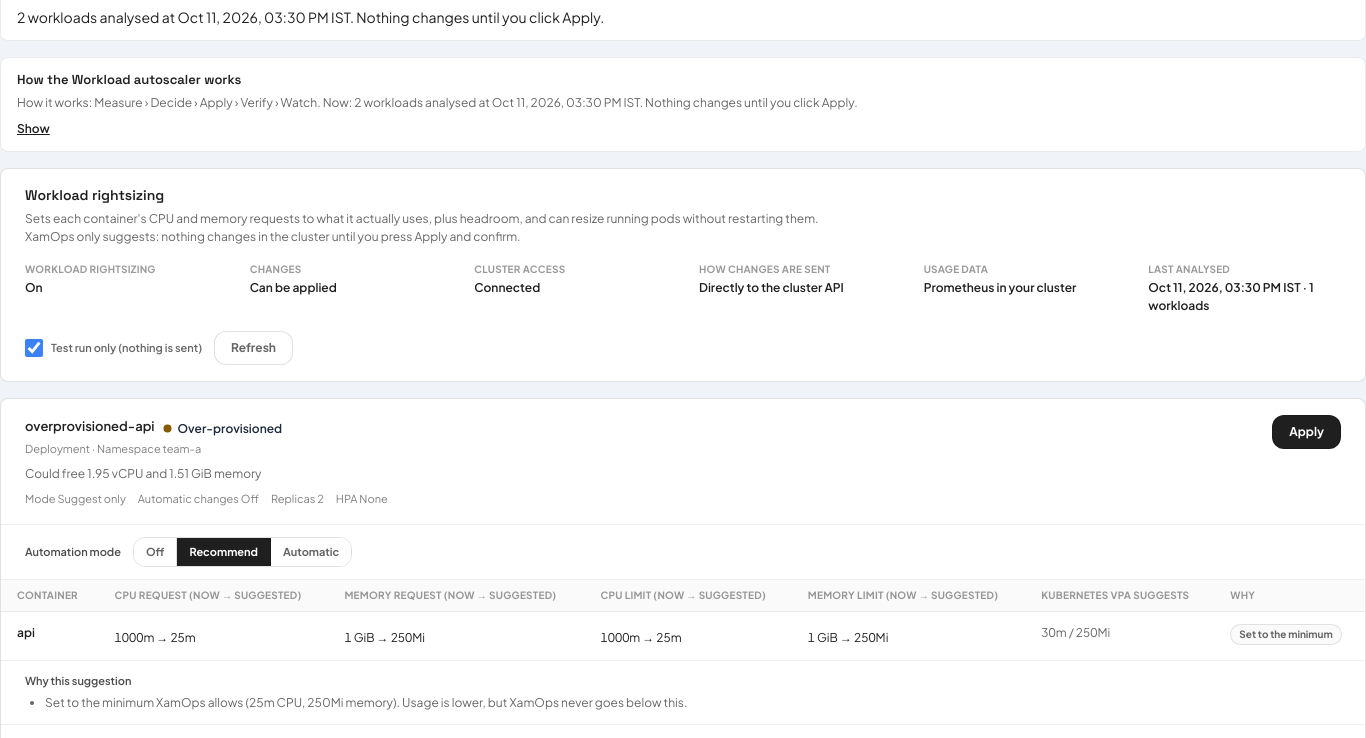
Test case: EksAutomationTab › after a caller-level 403, shows the reason, greys every Apply and reads the gates again
The width and height of the screenshot is (1366, 738).
Step 1. Click the button with aria-label "Apply overprovisioned-api" → {"x": 1307, "y": 432}, box top-left (1272, 415), bottom-right (1341, 449)
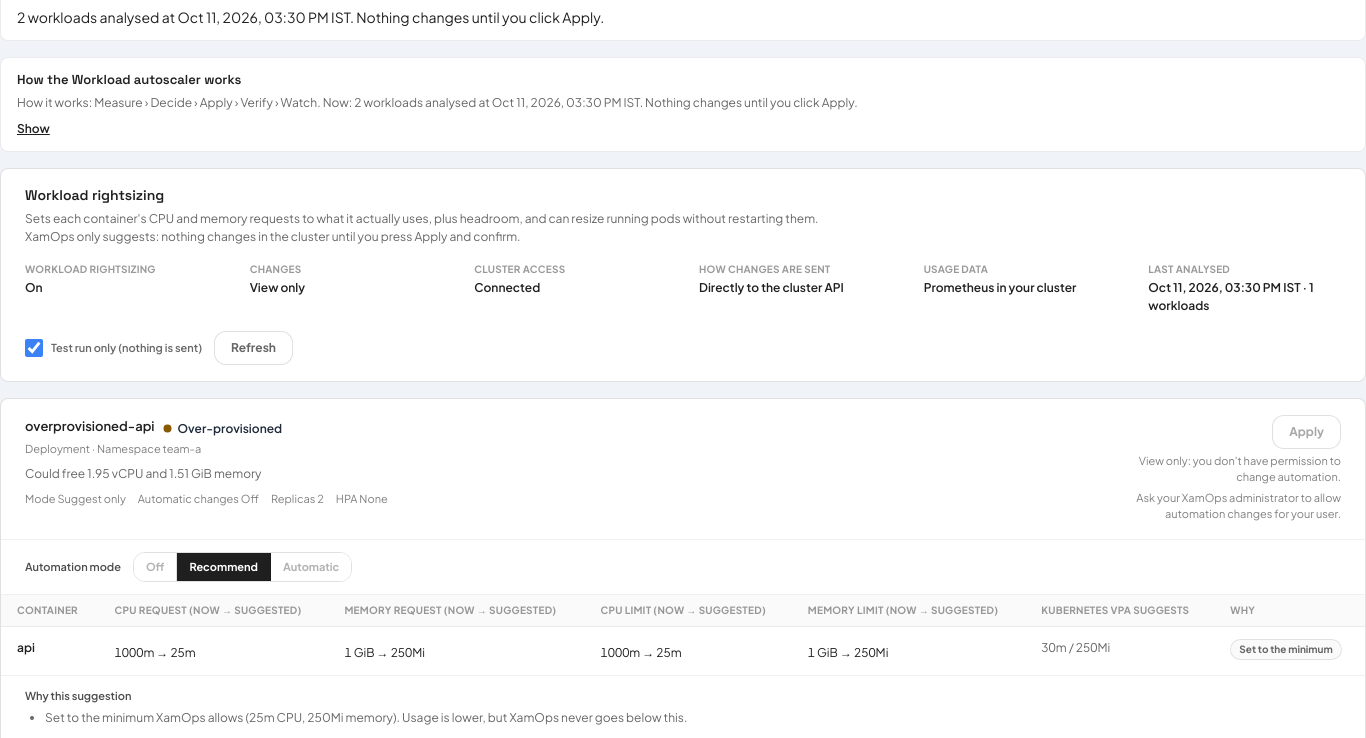
expect the button with aria-label "Apply overprovisioned-api" is disabled: met, box top-left (1272, 415), bottom-right (1341, 449)
Step 2. Click the button "Refresh" → {"x": 254, "y": 348}, box top-left (214, 331), bottom-right (293, 365)
(page scrolled)
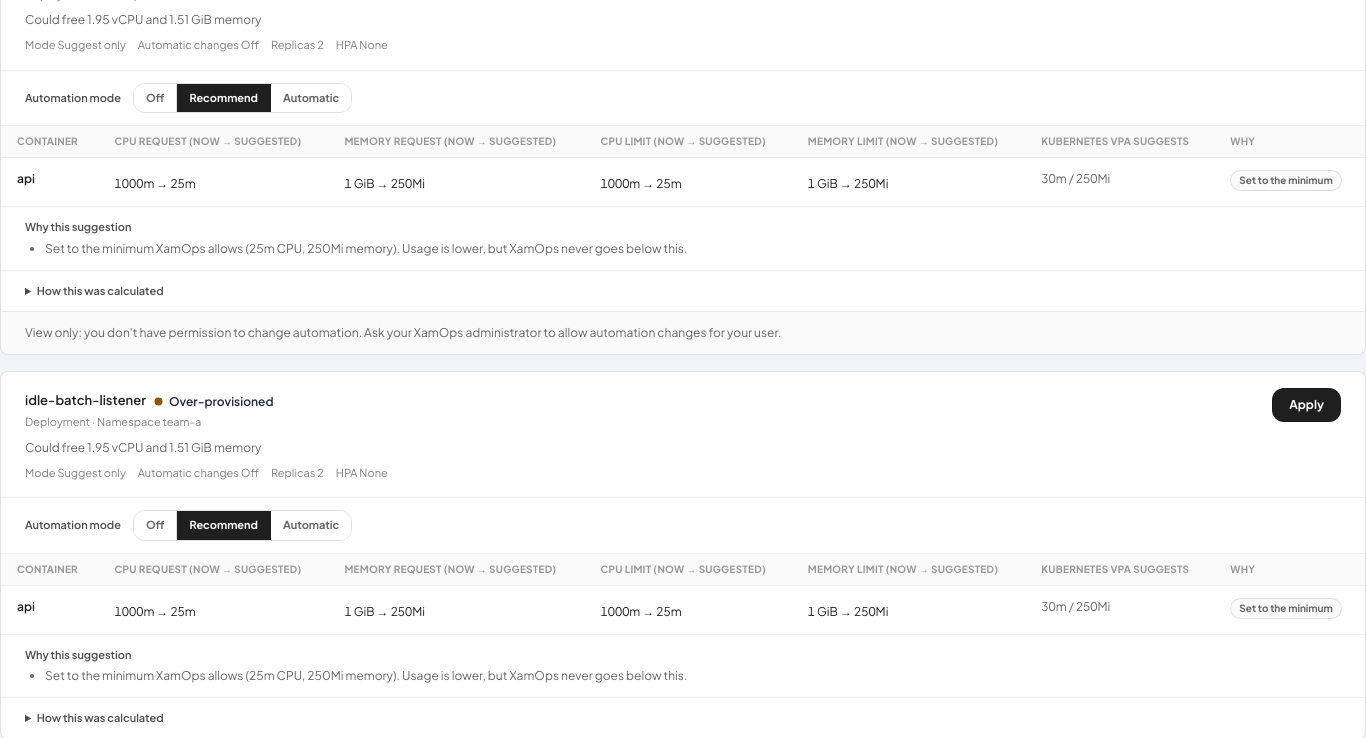
expect the button with aria-label "Apply idle-batch-listener" is enabled: met, box top-left (1272, 388), bottom-right (1341, 422)
